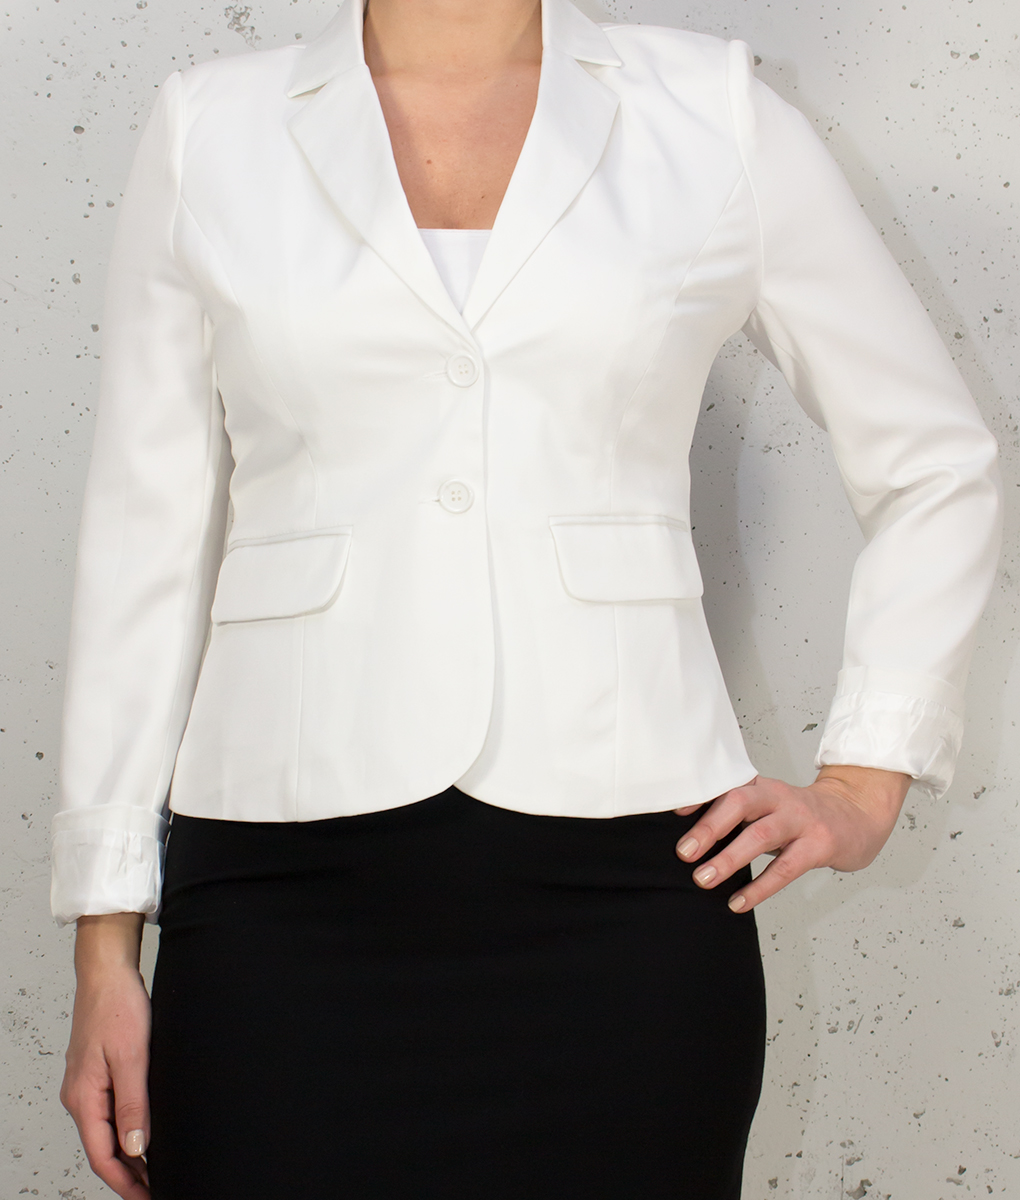F_W_suit jacket: (39, 16, 1020, 924)
F_tailored skirt: (155, 715, 819, 1200)
